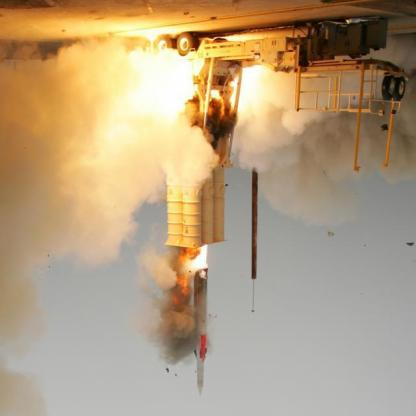MIL_TBM: (188, 260, 212, 404)
